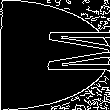M_W: (4, 32, 106, 78)
